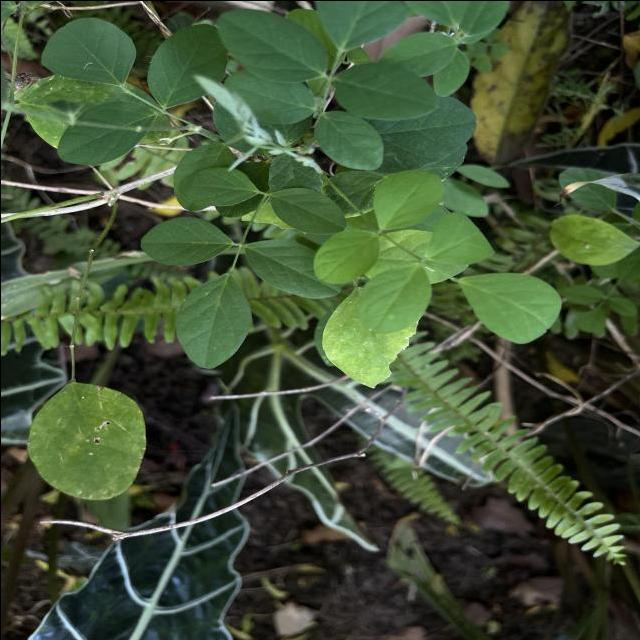Clitoria ternatea: (172, 271, 252, 369), (145, 22, 228, 108), (39, 15, 137, 86), (139, 214, 234, 266), (267, 186, 347, 233), (176, 166, 258, 206)
